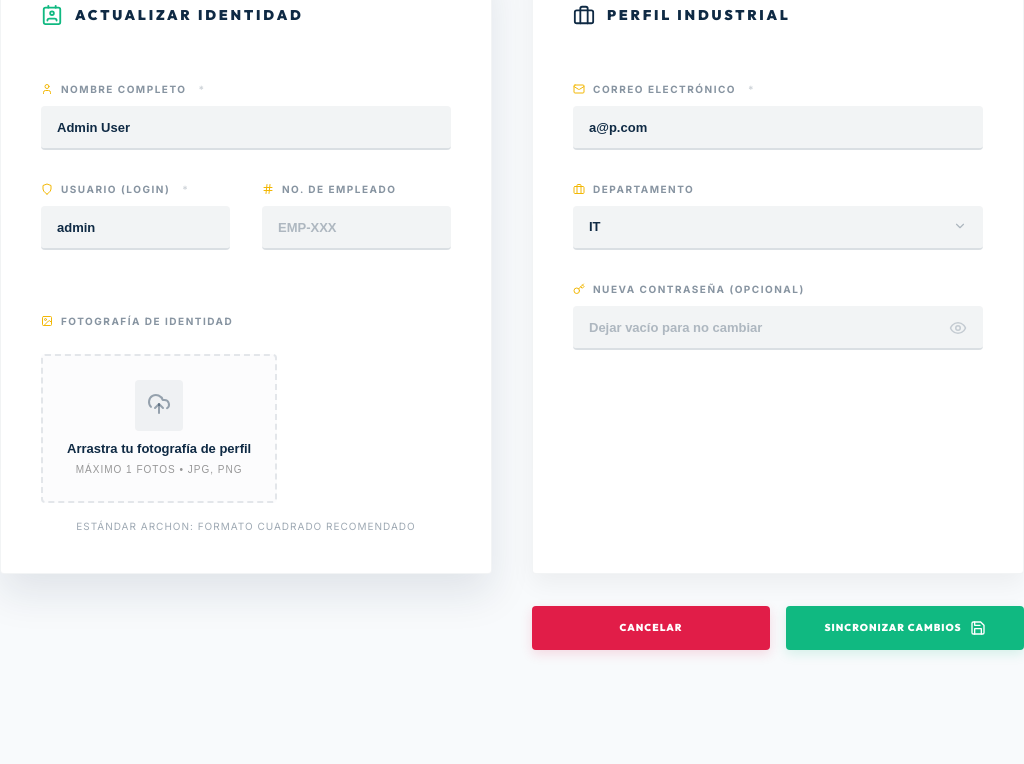
Test: UserRegistrationForm (Sentinel Identity) › handles update failure (logic branch)
The width and height of the screenshot is (1024, 764).
(page scrolled)
Submit the form with test id "registration-form"
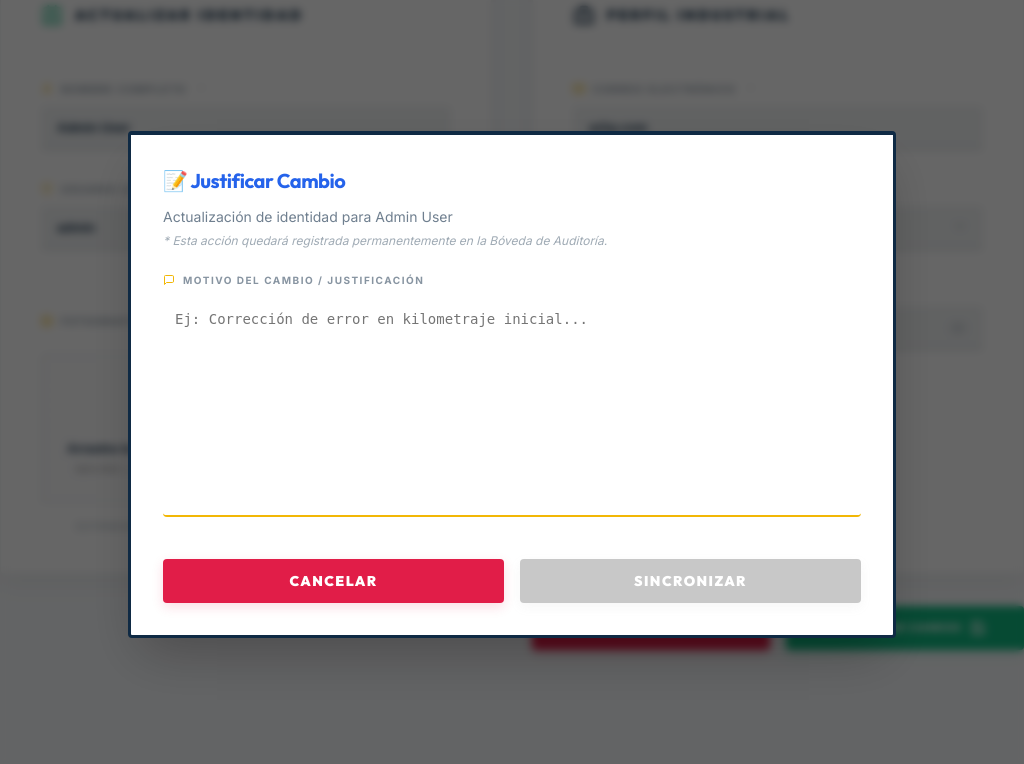
Type "Valid update" into the text box with placeholder "Ej: Corrección de error en kilometraje inicial...". click: (512, 406)
box: [163, 296, 861, 516]
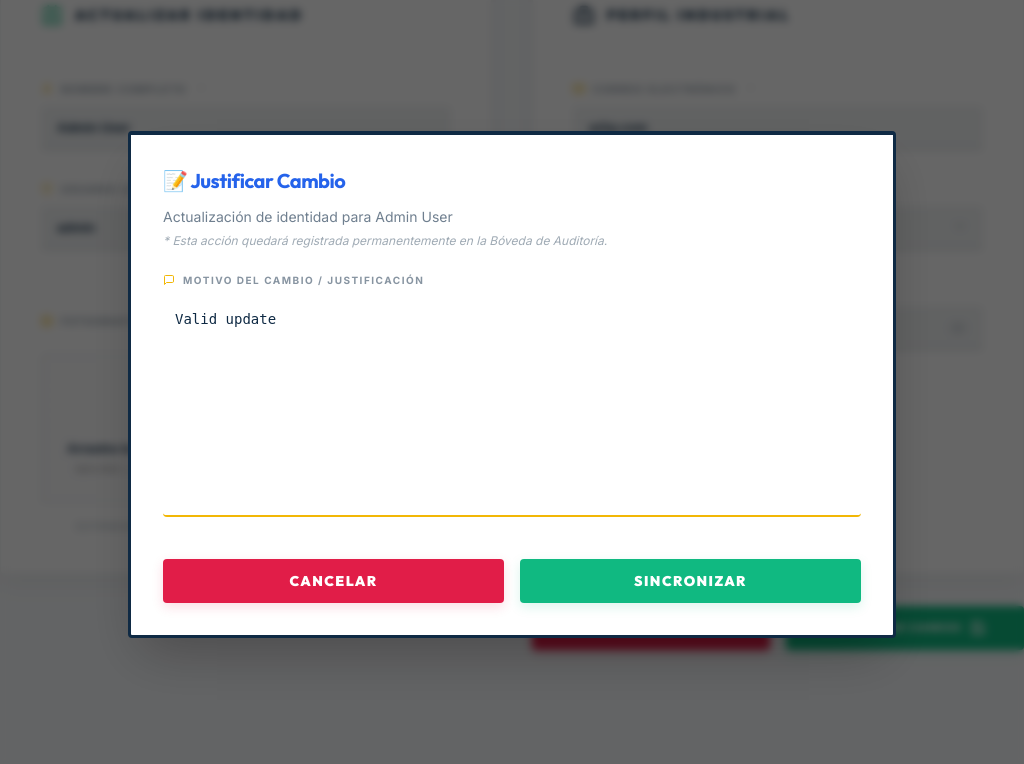
Click the button "Sincronizar". click: click(690, 580)
box: [520, 558, 861, 602]
(page scrolled)
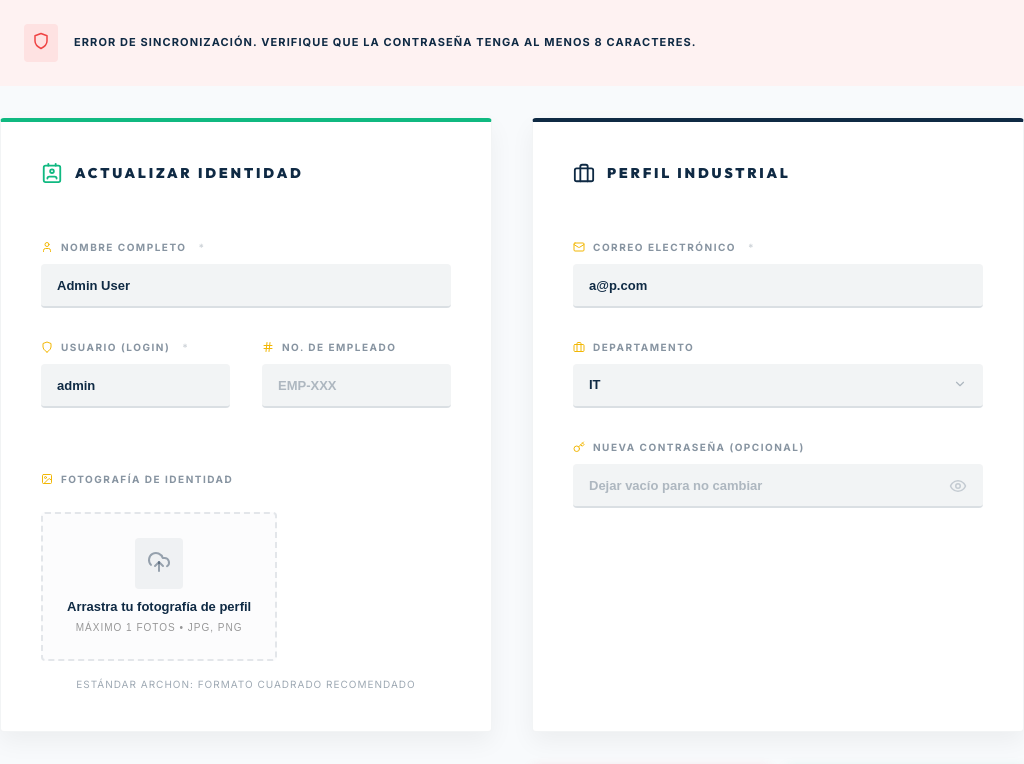
Result: the text "Error de sincronización" is shown at [74, 35, 697, 49]
